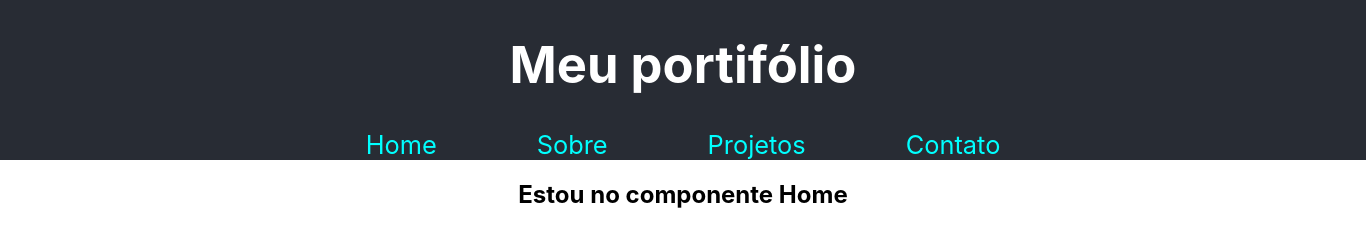
Test: Teste das rotas da aplicação › Verifica se o componente "Projects" é renderizado após o direcionamento
Click the link "Projetos". click: [757, 144]
box: [708,129,806,160]
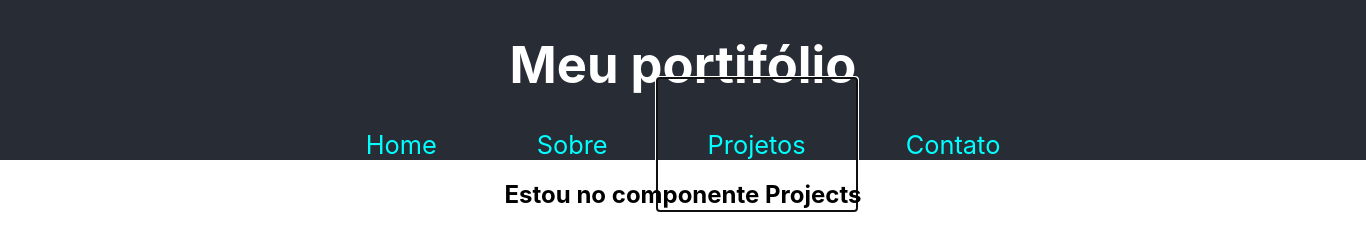
Check: the heading "Estou no componente Projects" is shown, box [504,180,862,209]
